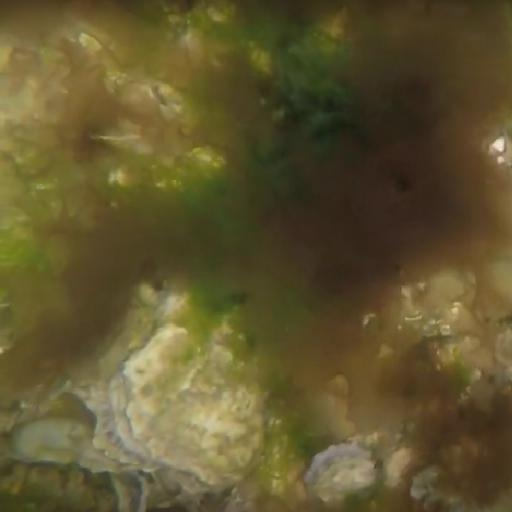Oyster-Closed: (10, 416, 122, 472)
Oyster-Open: (113, 324, 266, 488), (308, 452, 379, 512), (113, 476, 153, 512)
